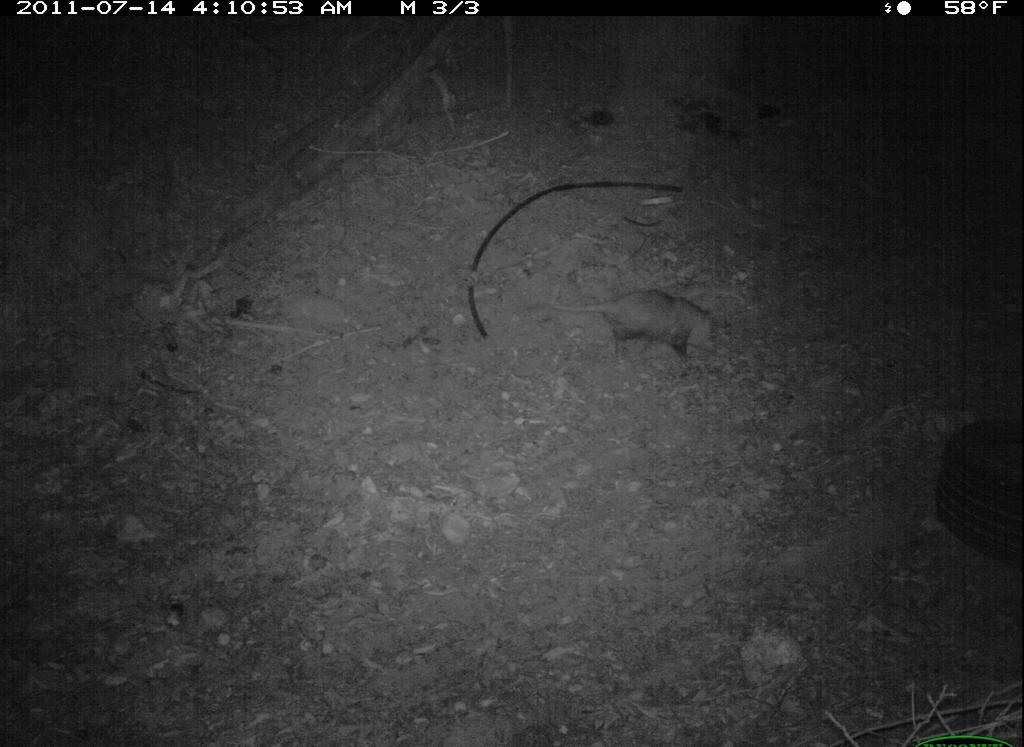opossum: (533, 280, 737, 373)
